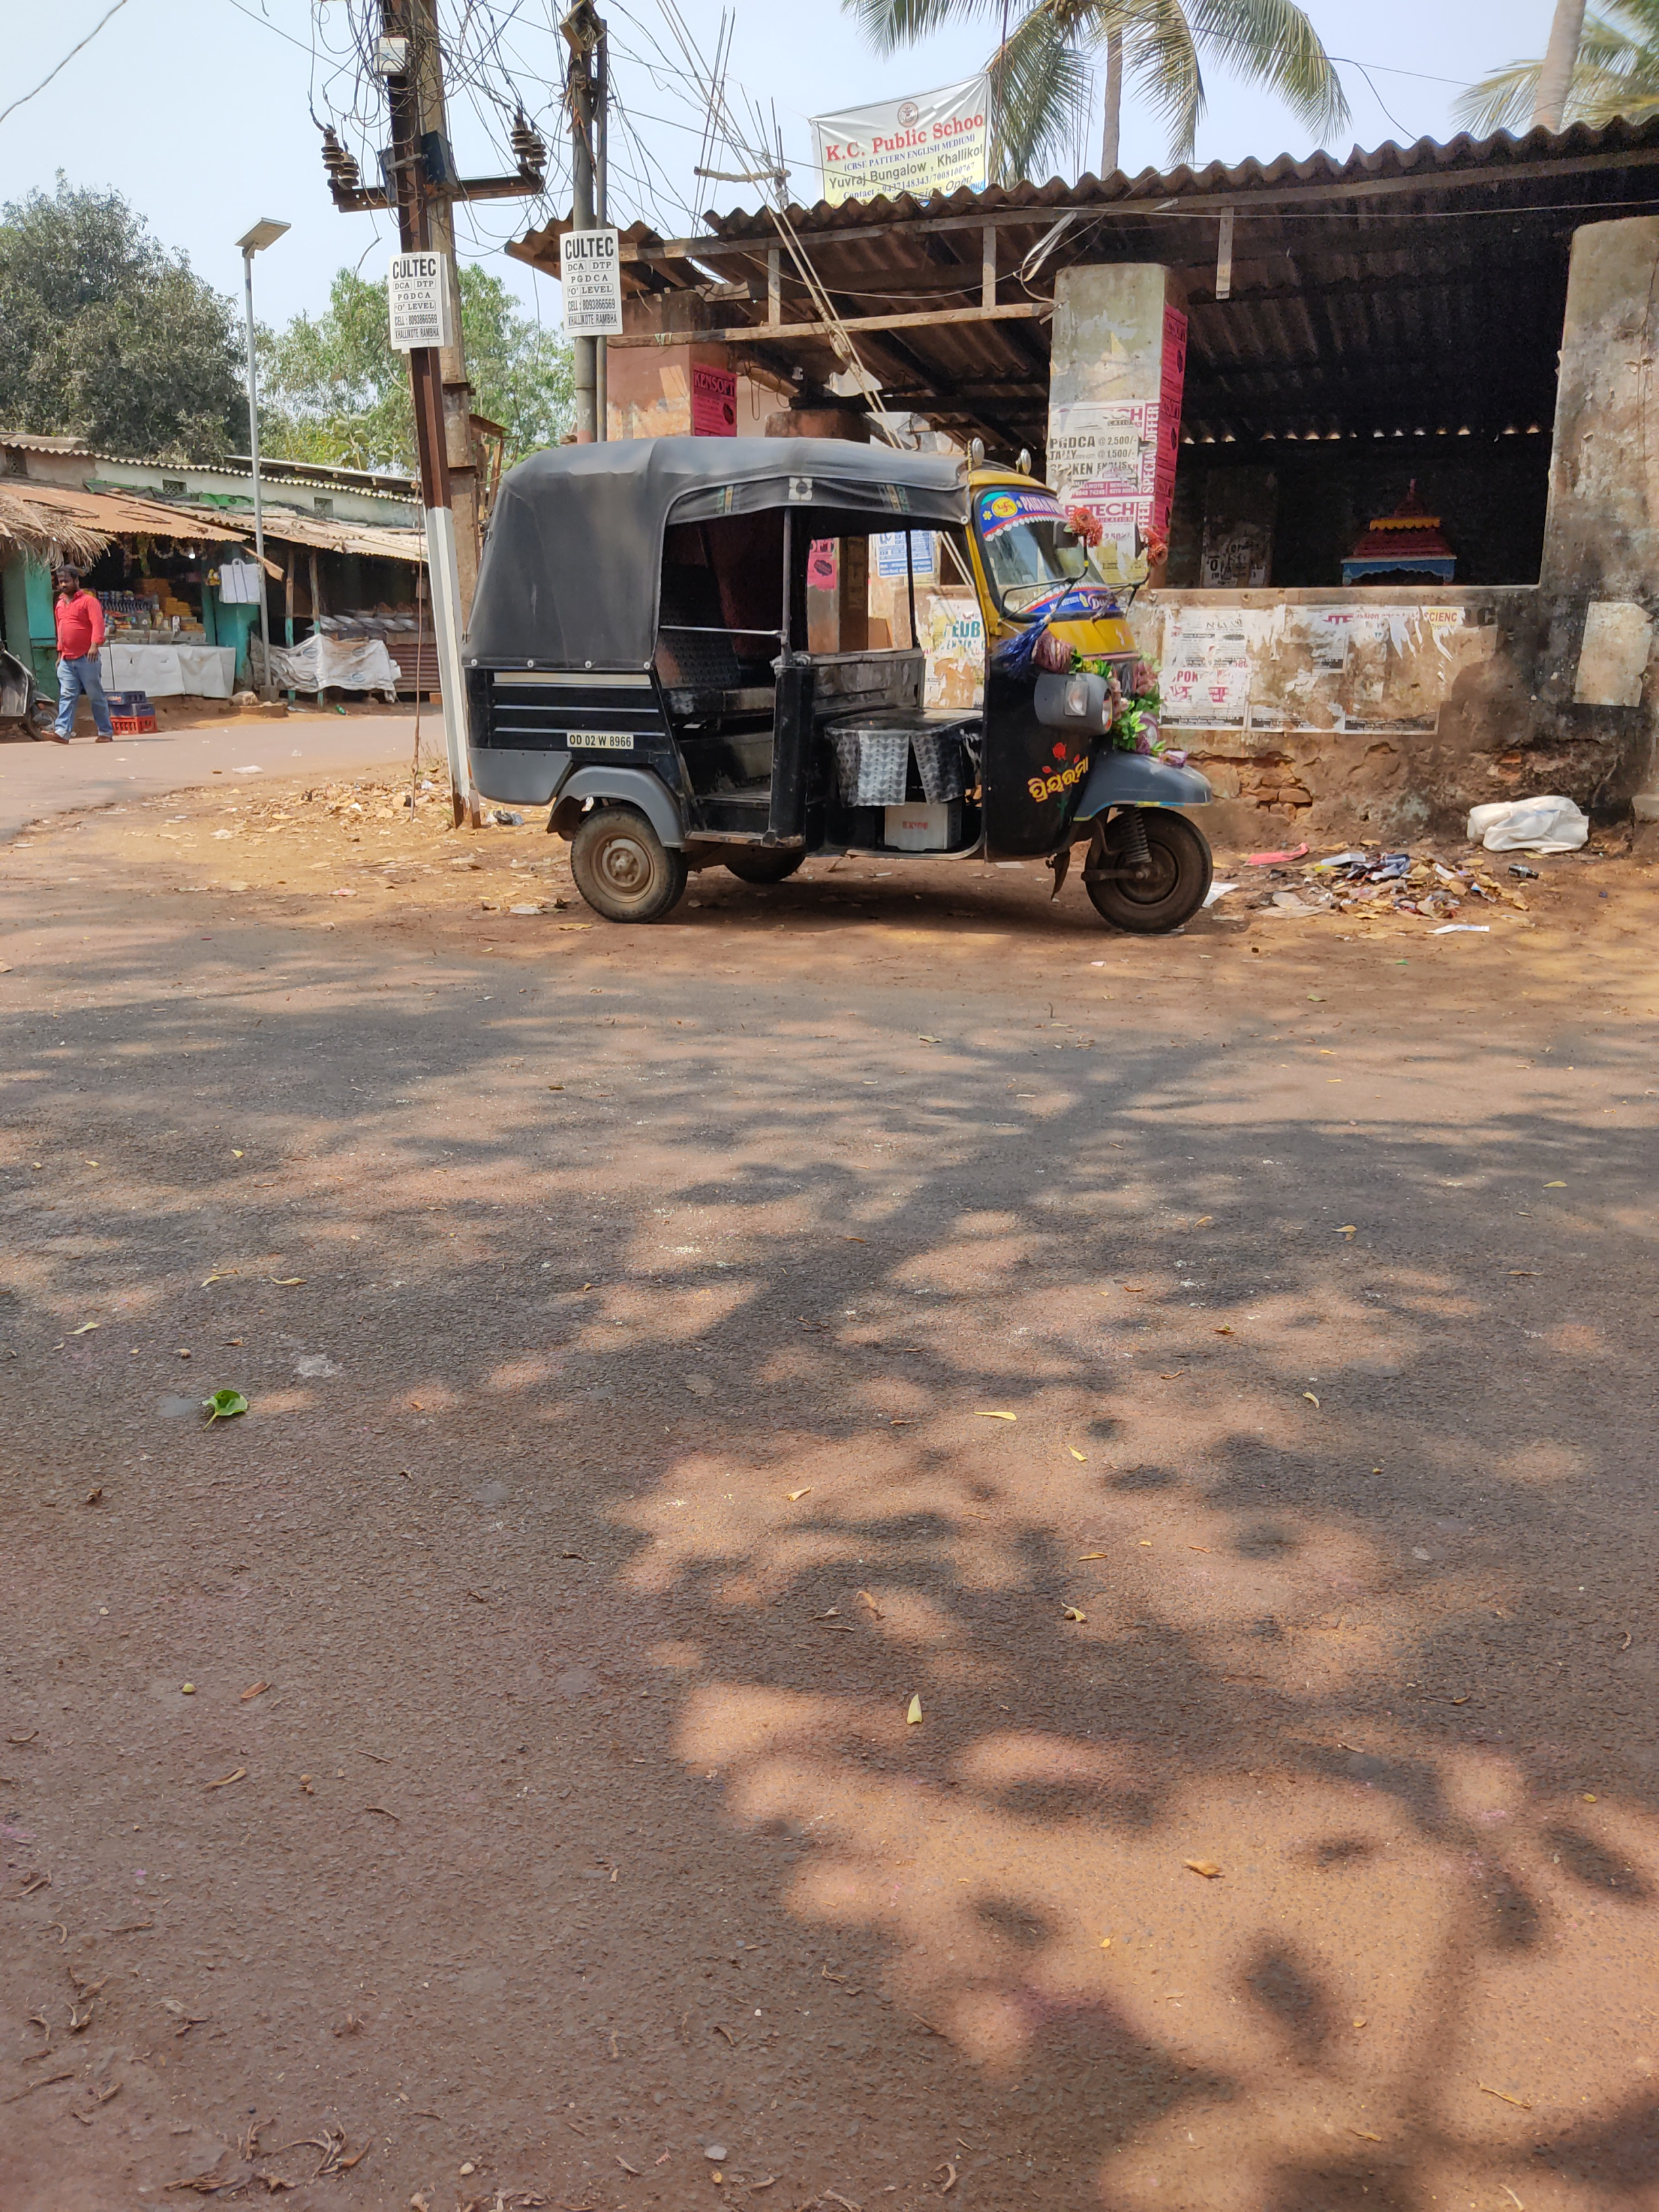auto: (455, 434, 1220, 927)
